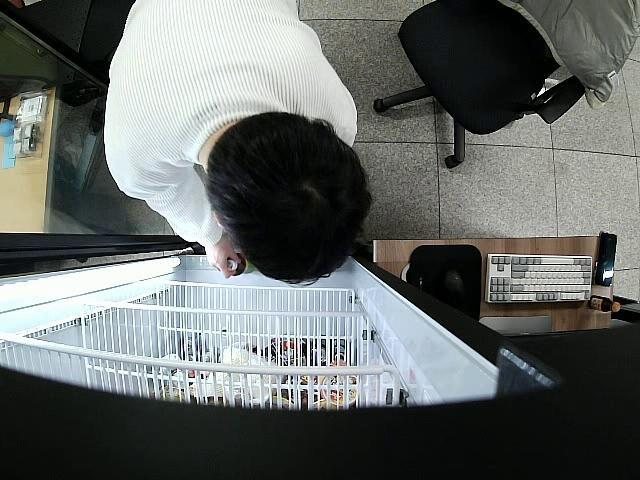19_17cha: (228, 253, 257, 278)
